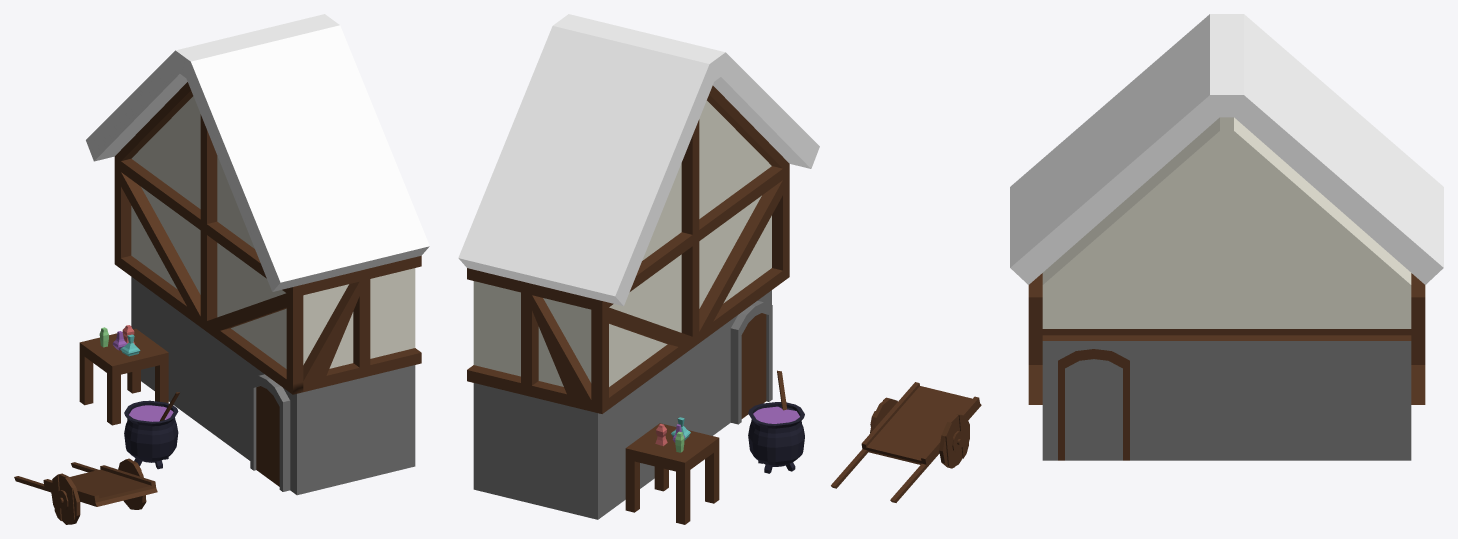
Rendered from EnchanterCap.fbx.
3 views of the same model, side by side, from view 1: azimuth 30°, elevation 25°; view 2: azimuth 150°, elevation 25°; view 3: azimuth 270°, elevation 25° (orthographic). The views are drawn at different scales.
Parts seen in each view (by area): view 1: Enchanter Cap; view 2: Enchanter Cap; view 3: Enchanter Cap.
Boxes of the visible parts, box(x1,y1,x2,y2) form: Enchanter Cap: box(14, 14, 429, 524); Enchanter Cap: box(458, 14, 981, 524); Enchanter Cap: box(1010, 14, 1443, 460).
Bounding box in the file's own units: 79.25 × 89.78 × 81.96.
